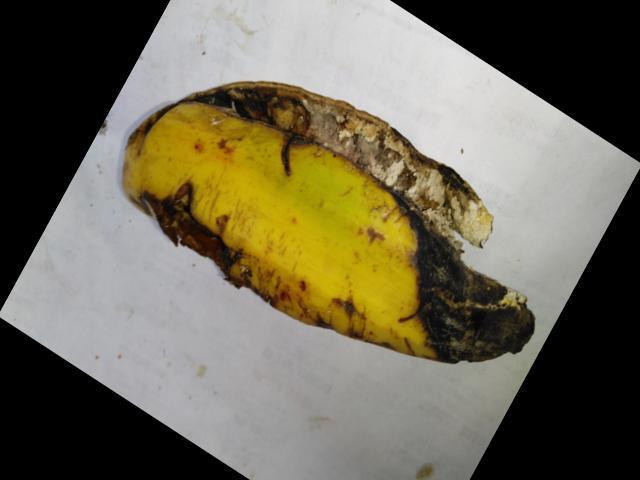rotten: (108, 60, 491, 242), (108, 166, 339, 350), (362, 178, 542, 379)
